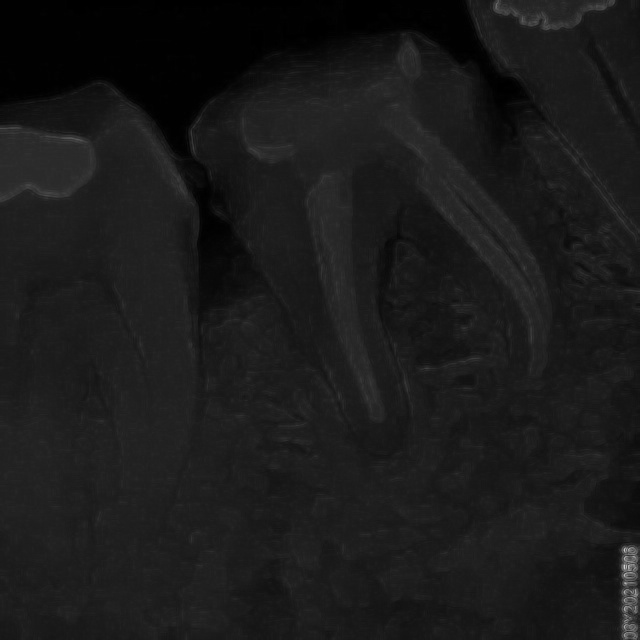Class 0- No endodontic treatment: (138, 20, 620, 479)
cavity: (1, 83, 247, 606)
